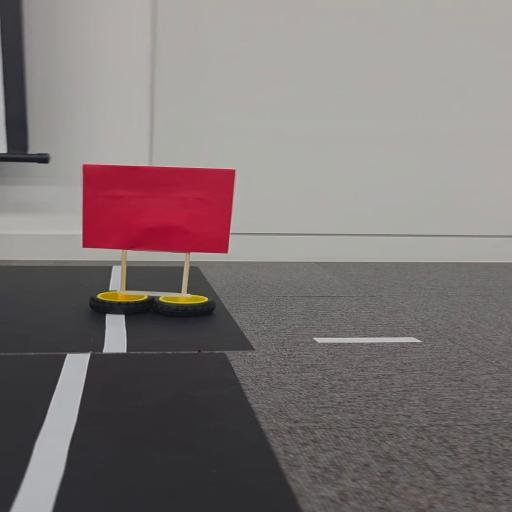Sign_A: (71, 161, 237, 324)
